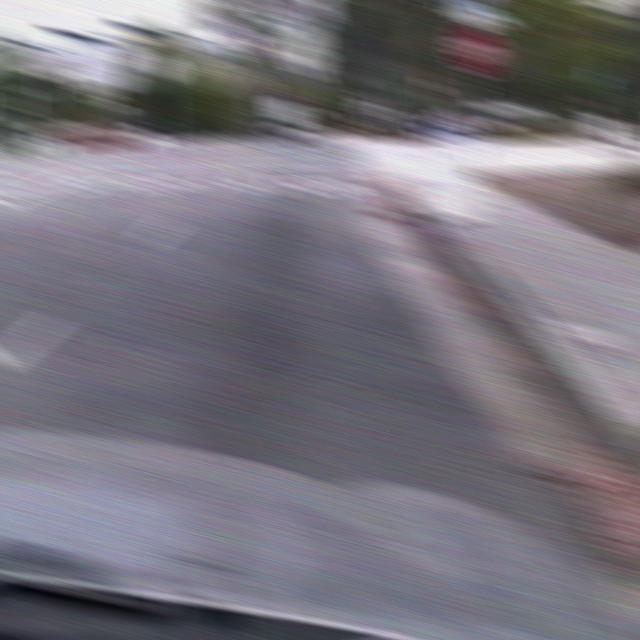stop_sign: (449, 24, 502, 76)
